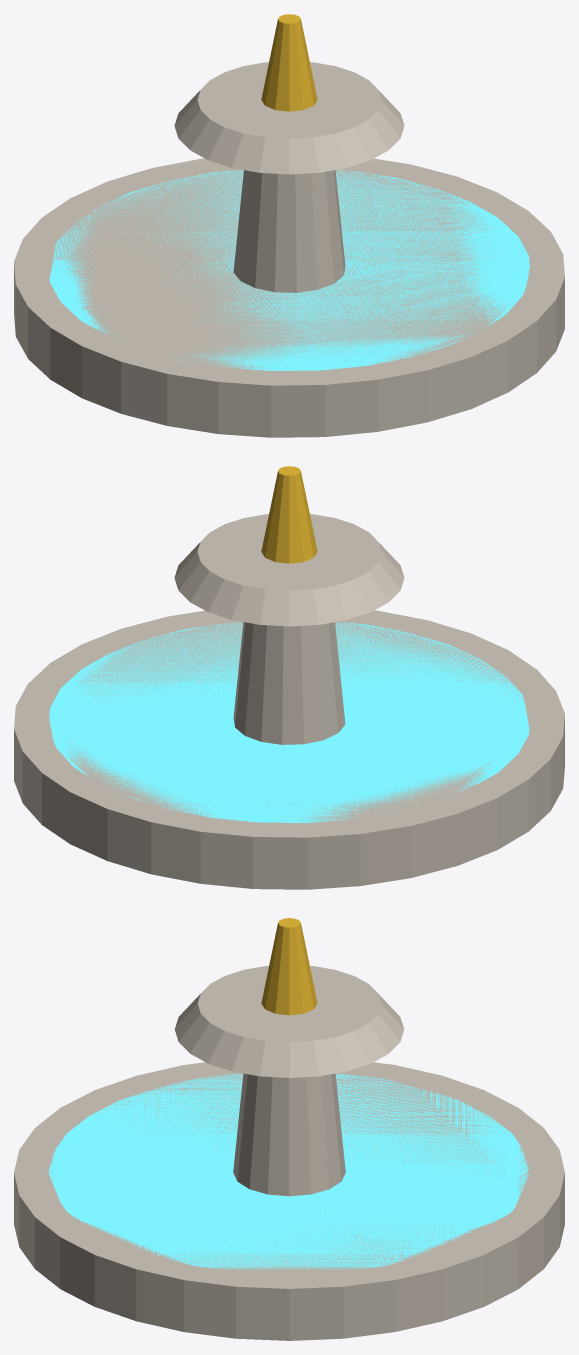
File: plaza_fountain.fbx
The picture shows the model from 3 angles, top to bottom: view 1: azimuth 30°, elevation 25°; view 2: azimuth 150°, elevation 25°; view 3: azimuth 270°, elevation 25°; orthographic projection.
Visible parts, largest first — view 1: plaza_fountain_LOD0; view 2: plaza_fountain_LOD0; view 3: plaza_fountain_LOD0.
Part boxes in pixels (x1=…): plaza_fountain_LOD0: x1=14, y1=14, x2=564, y2=437; plaza_fountain_LOD0: x1=14, y1=466, x2=564, y2=889; plaza_fountain_LOD0: x1=14, y1=918, x2=564, y2=1340.
Size of what is drawn, in the model's own units: 4.8 by 2.9 by 4.8.
